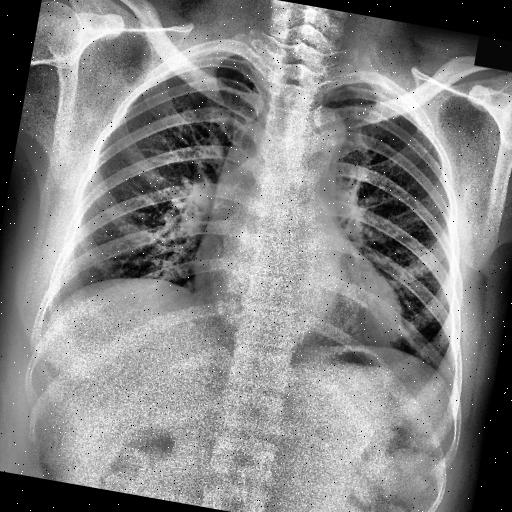0- Aortic enlargement: (222, 94, 349, 204), (293, 104, 352, 173), (285, 98, 350, 158)
3- Cardiomegaly: (181, 246, 407, 351)
